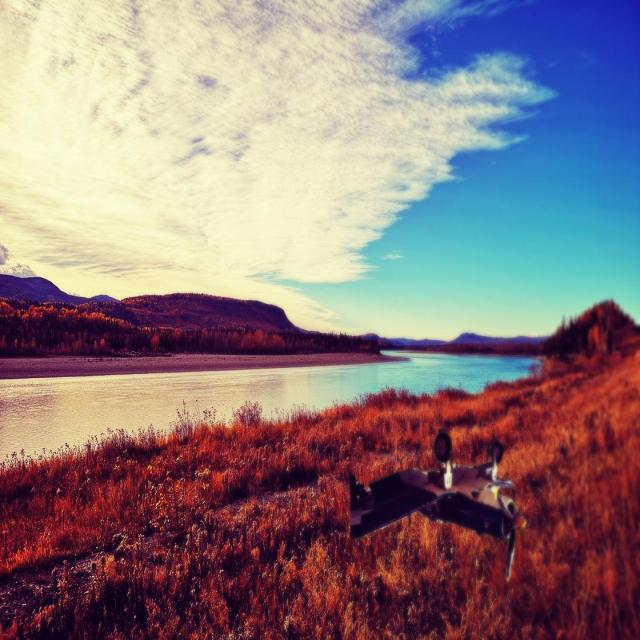airplane: (349, 430, 527, 582)
